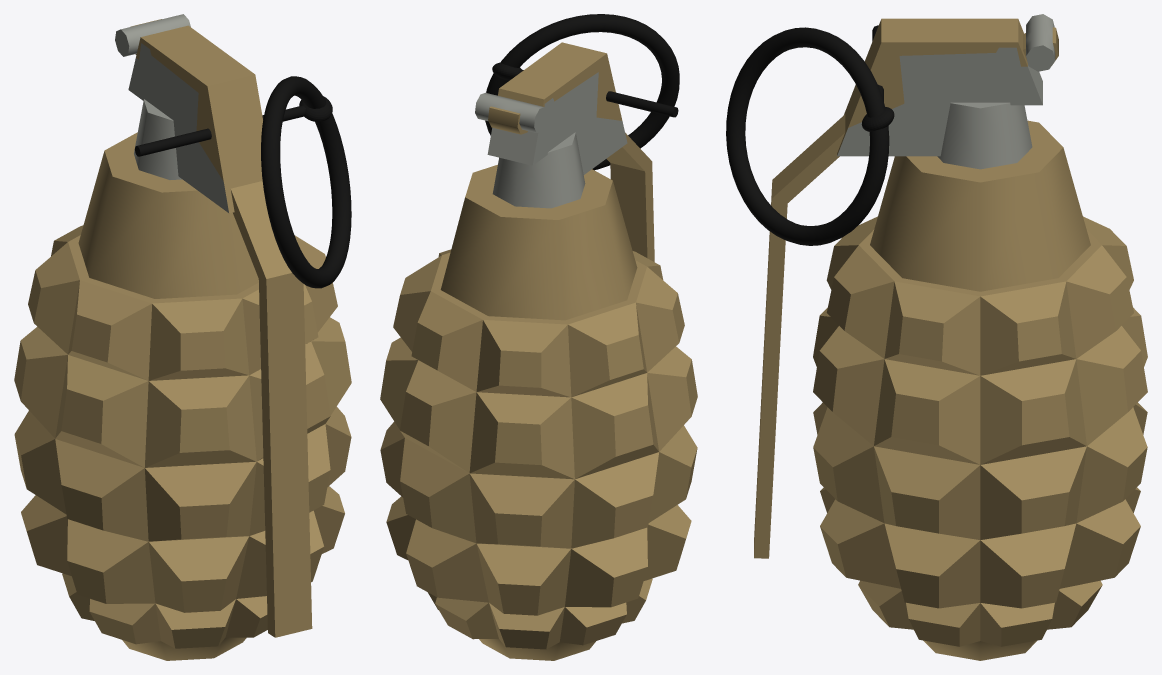
Rendered from grenade.fbx.
The picture shows the model from 3 angles, left to right: view 1: azimuth 30°, elevation 25°; view 2: azimuth 150°, elevation 25°; view 3: azimuth 270°, elevation 25°; orthographic projection. The views are drawn at different scales.
Visible parts, largest first — view 1: Cube, Cube.001, Cylinder, BézierCircle, Cylinder.001, Cylinder.002; view 2: Cube, Cylinder, BézierCircle, Cube.001, Cylinder.002, Cylinder.001; view 3: Cube, Cylinder, BézierCircle, Cube.001, Cylinder.002, Cylinder.001.
Boxes of the visible parts, x1=… form: Cube: x1=14, y1=132, x2=351, y2=660; Cube.001: x1=230, y1=181, x2=312, y2=637; Cylinder: x1=128, y1=25, x2=262, y2=213; BézierCircle: x1=261, y1=76, x2=351, y2=288; Cylinder.001: x1=134, y1=96, x2=332, y2=156; Cylinder.002: x1=115, y1=14, x2=190, y2=56; Cube: x1=380, y1=164, x2=697, y2=660; Cylinder: x1=487, y1=42, x2=627, y2=208; BézierCircle: x1=485, y1=14, x2=679, y2=170; Cube.001: x1=606, y1=132, x2=654, y2=261; Cylinder.002: x1=475, y1=92, x2=547, y2=134; Cylinder.001: x1=492, y1=62, x2=678, y2=117; Cube: x1=813, y1=120, x2=1147, y2=660; Cylinder: x1=837, y1=18, x2=1042, y2=169; BézierCircle: x1=726, y1=27, x2=889, y2=245; Cube.001: x1=754, y1=114, x2=845, y2=558; Cylinder.002: x1=1023, y1=14, x2=1058, y2=71; Cylinder.001: x1=861, y1=25, x2=894, y2=131.
Bounding box in the file's own units: 30.16 × 60.84 × 37.98.
